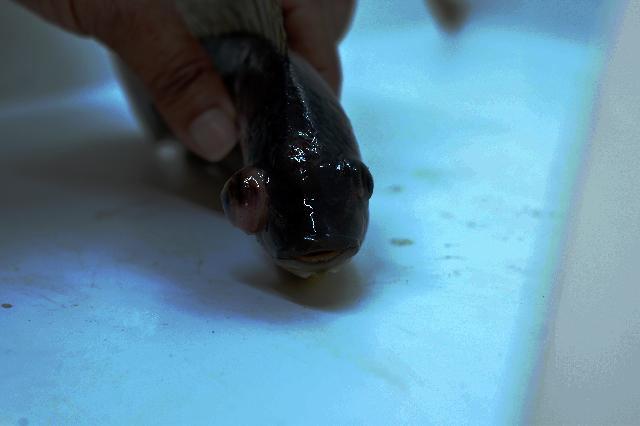Streptococcus: (175, 0, 373, 280)
